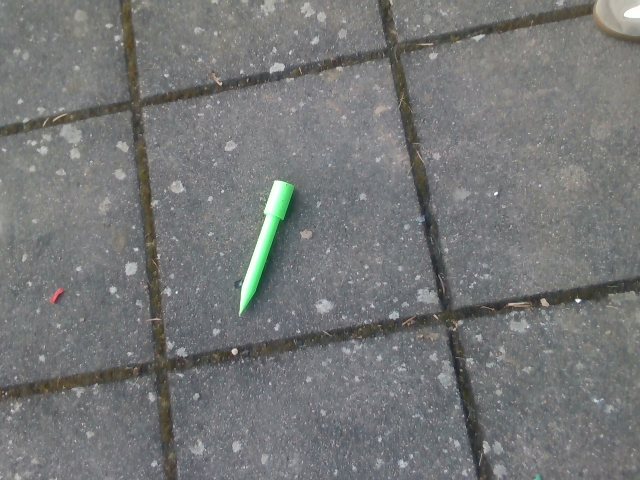Probe: (235, 177, 298, 321)
